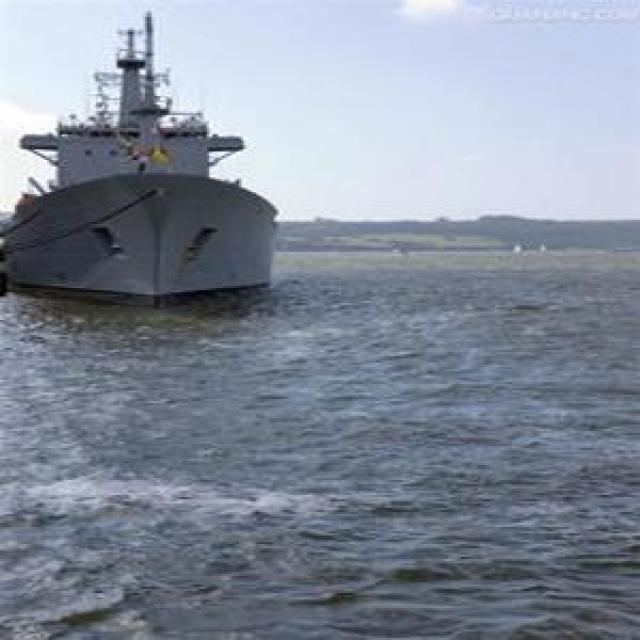navalvessels: (0, 42, 304, 308)
